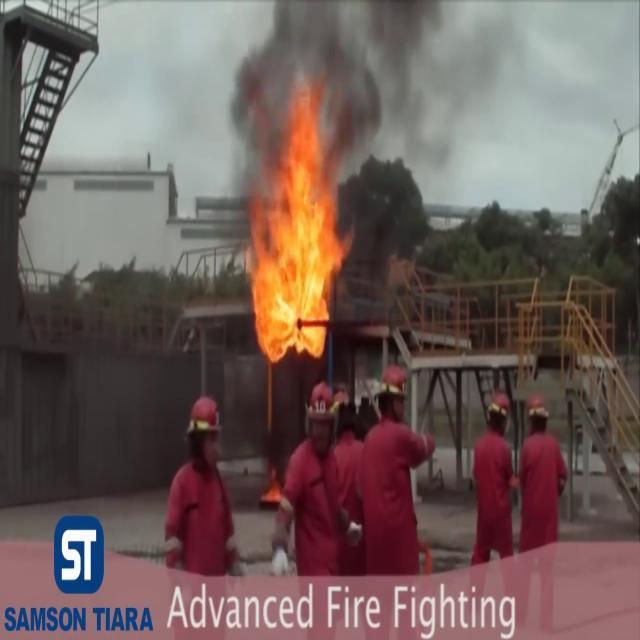Fire: (242, 100, 350, 362)
Smoke: (225, 1, 509, 162)
